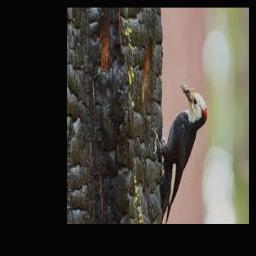Woodpecker: (151, 81, 206, 224)
